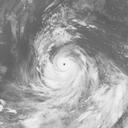cyclone: (31, 38, 98, 101)
